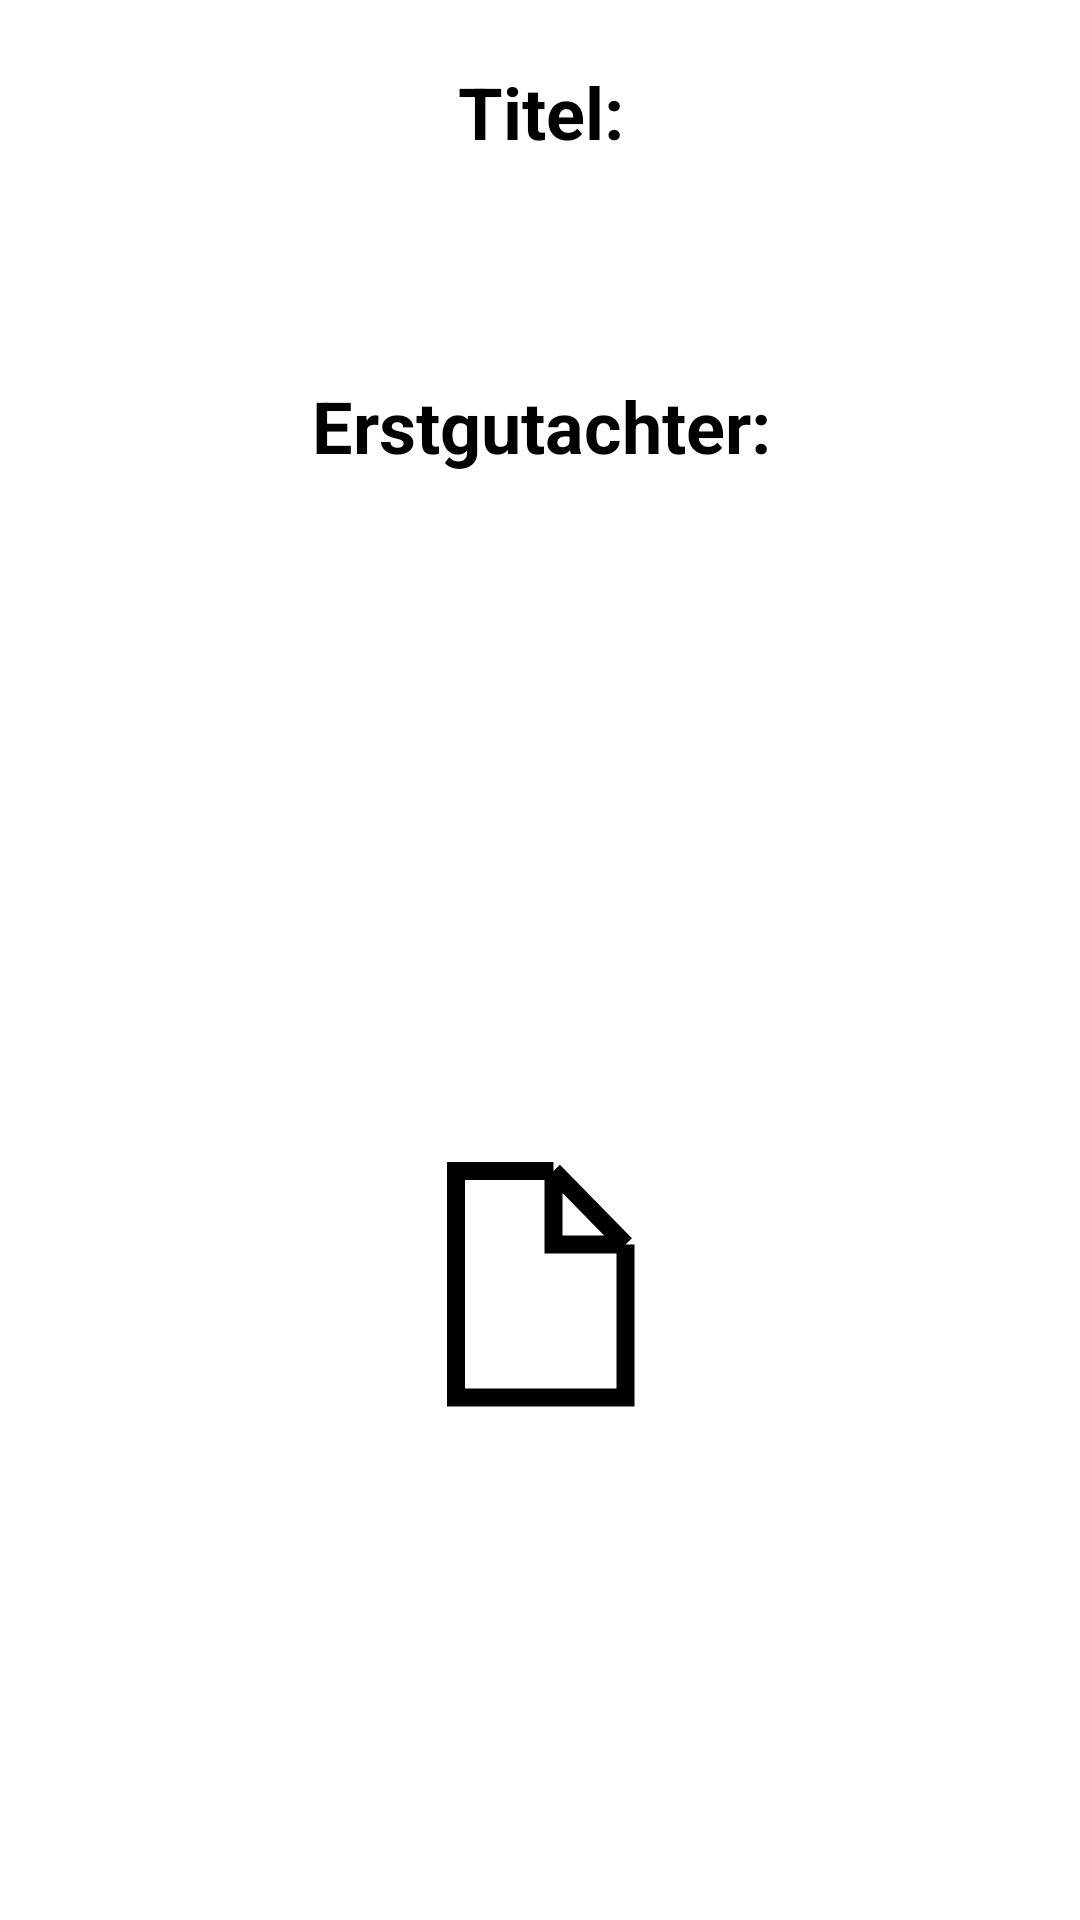

Icons on this 1080px×1920px Android screen, each with its box as (x1, y1, x2, y2):
A file icon: (447, 1162, 635, 1407)
